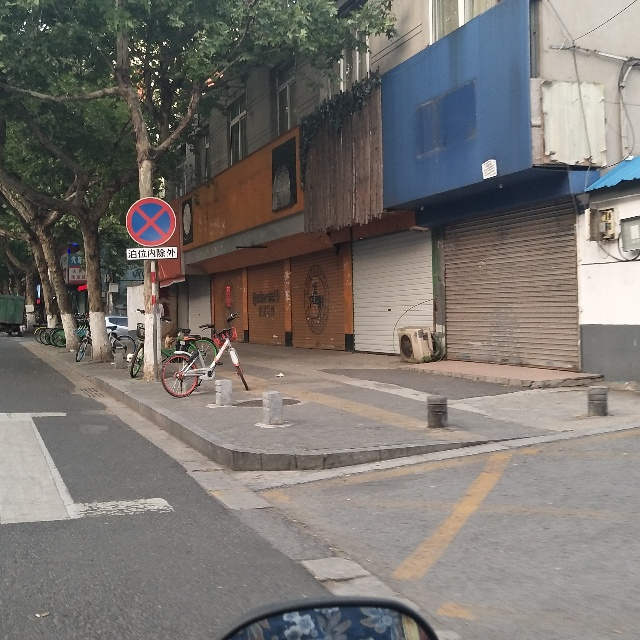stop: (126, 197, 176, 246)
